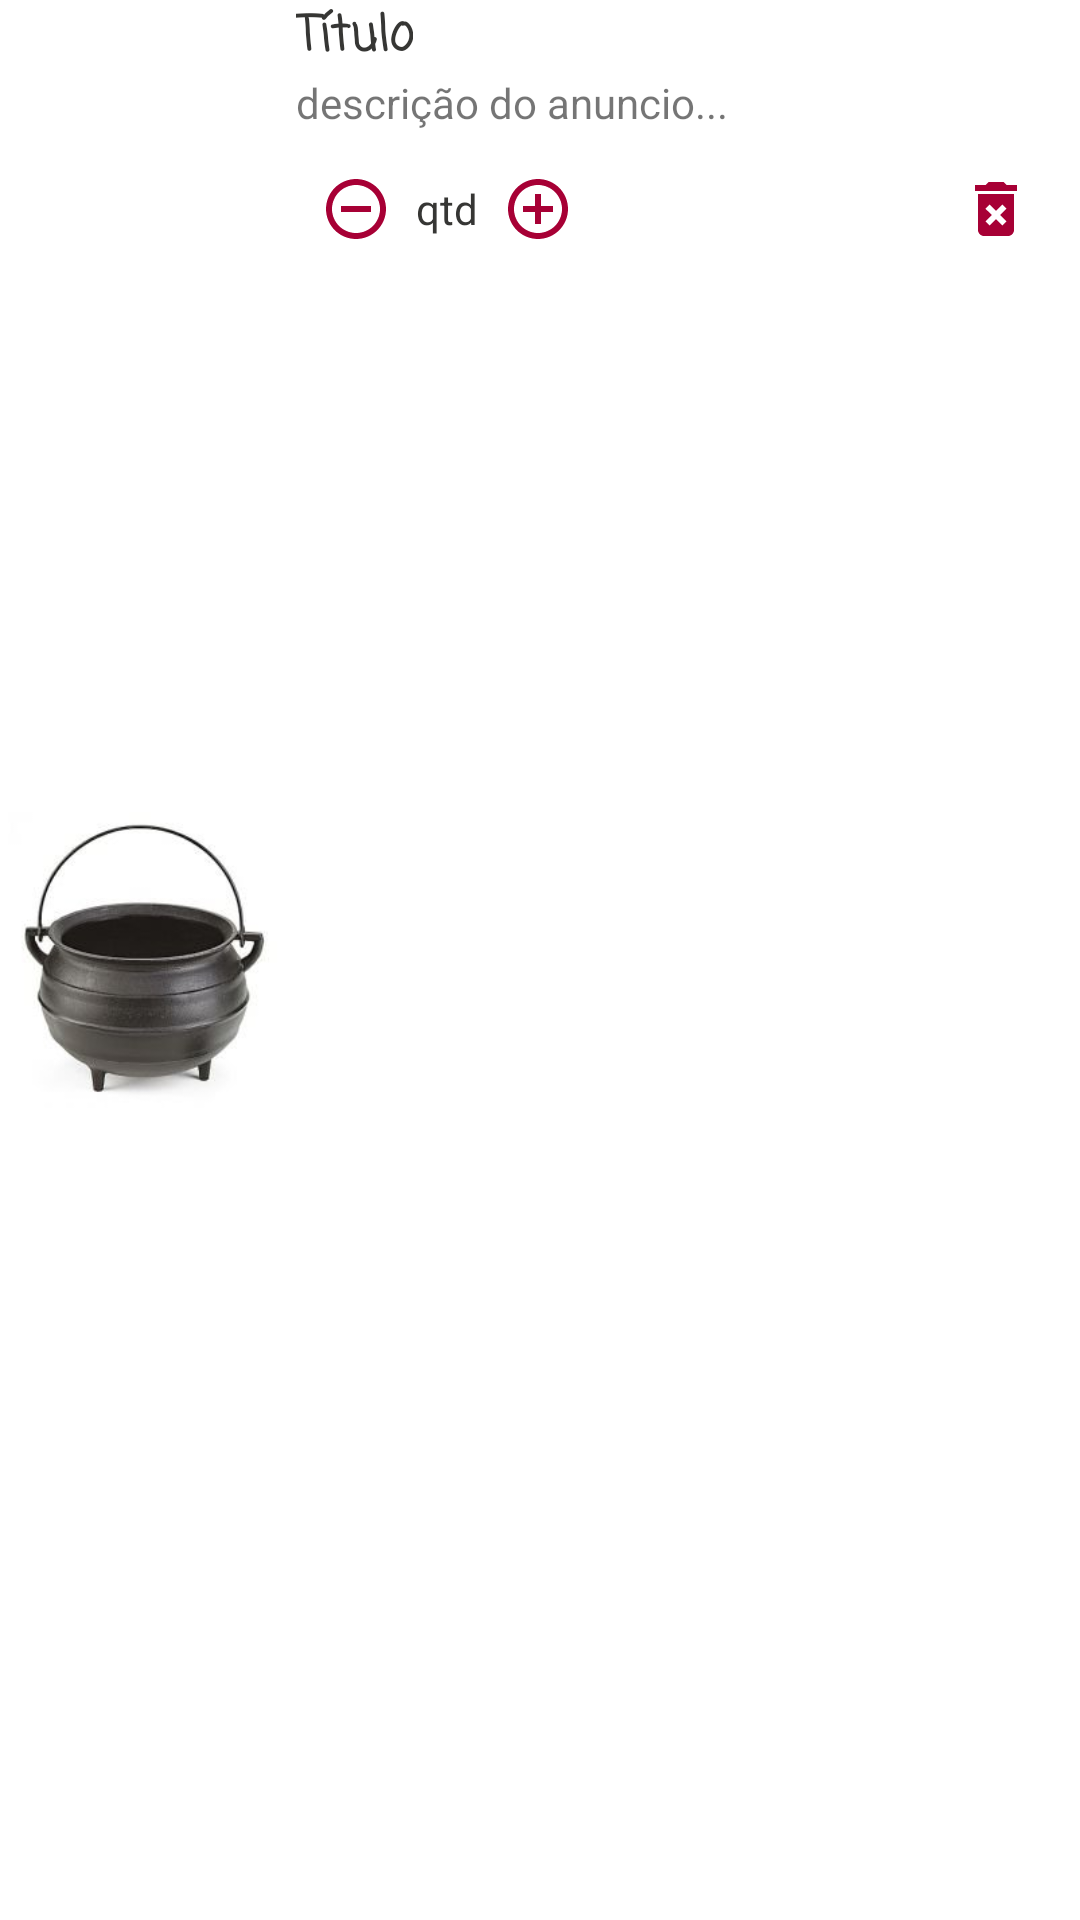

Screen size 1080x1920. Icon name, then its box in pixels as (x1, y1, x2, y2):
delete azul: (975, 182, 1017, 236)
mais azul: (508, 179, 568, 239)
menos azul: (326, 179, 386, 239)
